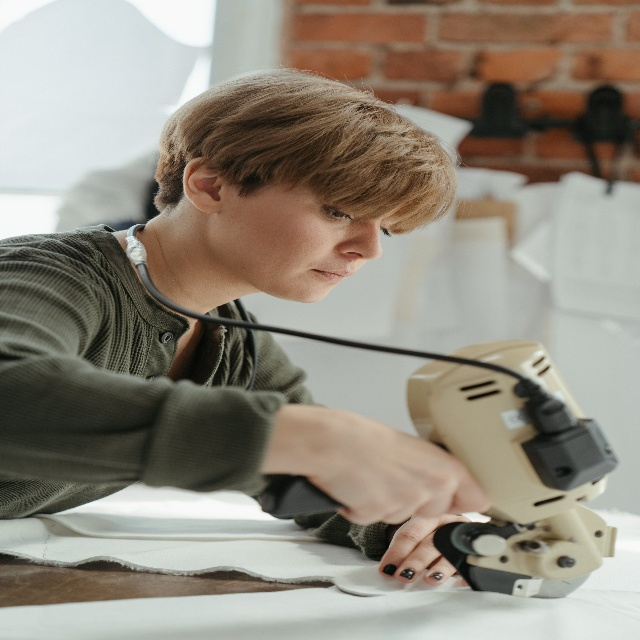Sin_guantes: (294, 404, 489, 526), (377, 513, 471, 586)
